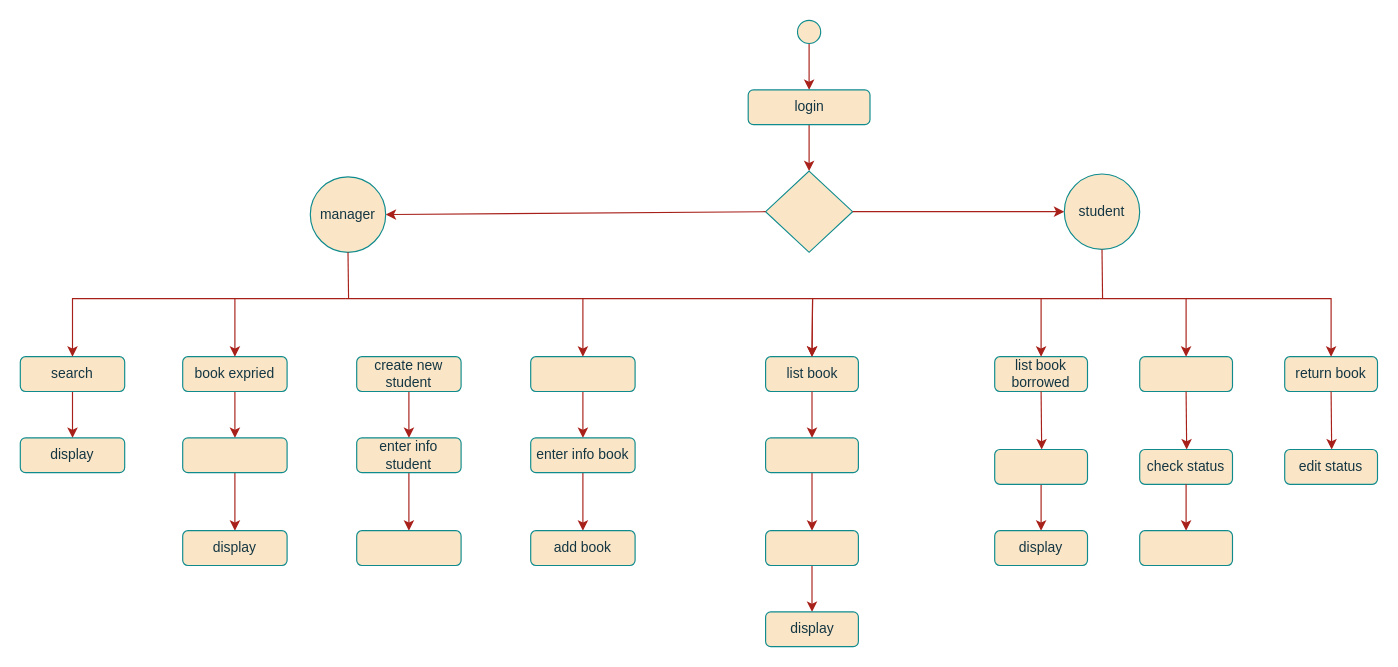
The diagram is 1398 pixels wide and 667 high, and some of its shapes have lost their labels. Each missing label, with the centre of its shape:
add student: the point at 408,548
borrow book: the point at 1185,374
check account: the point at 808,211
create new book: the point at 582,374
edit status book: the point at 1185,548
fillter: the point at 811,548
get: the point at 234,455
get book borrowed: the point at 1041,466
get books: the point at 811,455
